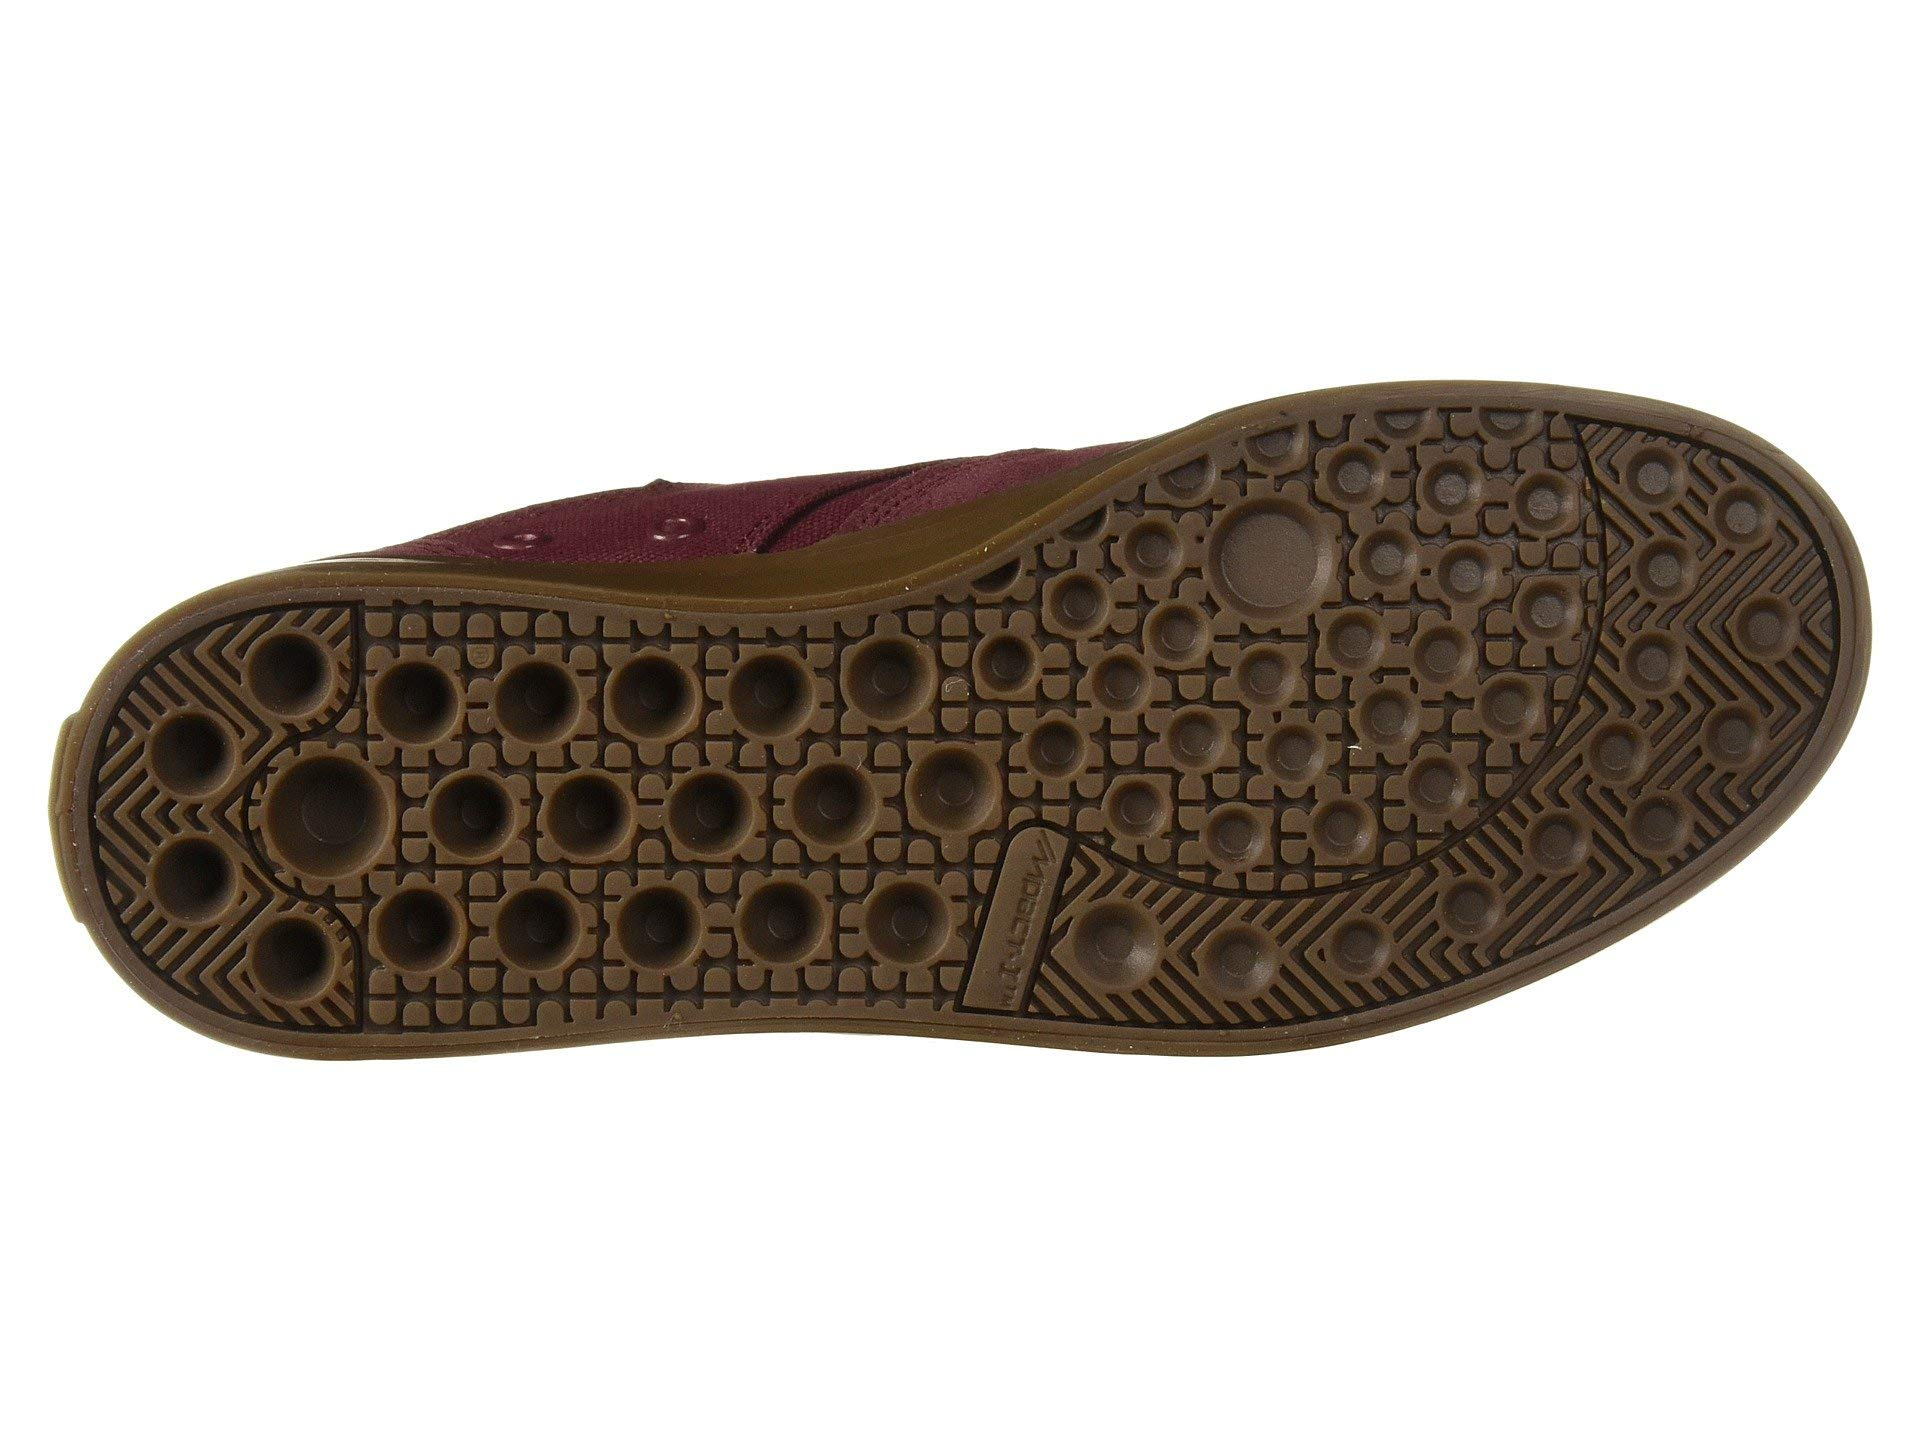chevron: (1598, 439, 1798, 791), (132, 675, 265, 989), (1495, 777, 1607, 936)
circle: (348, 638, 1017, 988), (1105, 649, 1480, 839), (1598, 439, 1798, 791), (1373, 427, 1590, 653), (1055, 871, 1406, 1001), (132, 675, 265, 989), (1187, 483, 1346, 632), (1495, 777, 1607, 936)
quad: (348, 638, 1017, 988), (1105, 649, 1480, 839), (1373, 427, 1590, 653)
